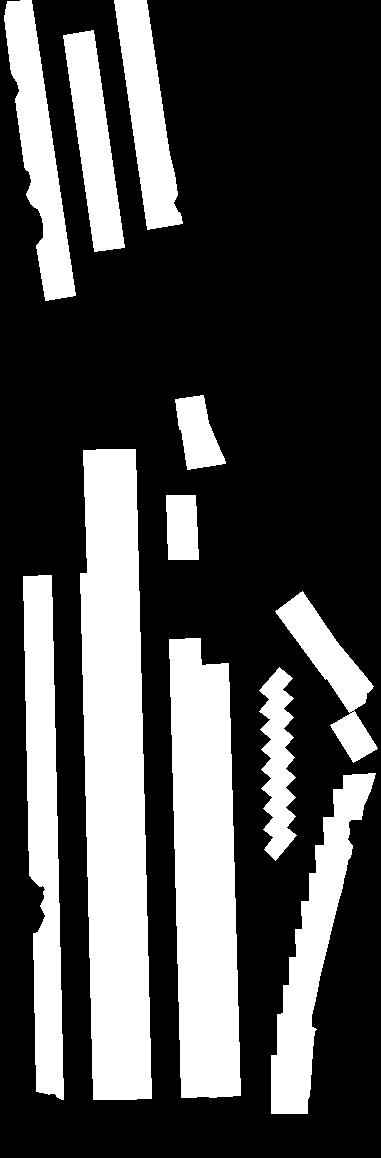parkingspot: (271, 773, 375, 1113), (104, 449, 151, 1099), (80, 449, 123, 1099), (4, 0, 75, 300), (23, 575, 63, 1099), (169, 638, 211, 1097), (198, 663, 240, 1097), (114, 0, 182, 229), (63, 30, 124, 251), (275, 591, 373, 712), (259, 667, 296, 860), (175, 395, 225, 469), (330, 711, 377, 762), (166, 495, 198, 559)
